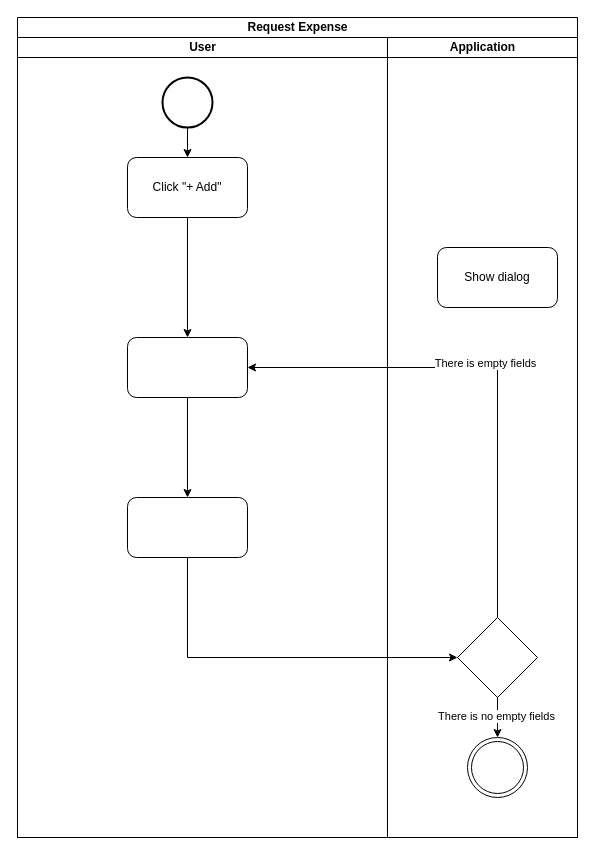
This 595x855 diagram has some shape labels left out. The centre of each missing label's shape, as x and y in pixels:
Click "Save": pixel 187 527
Input Purpose, Description, Details: pixel 187 367
